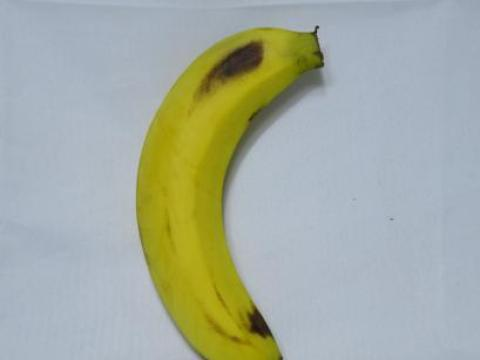freshripe: (121, 12, 339, 359)
